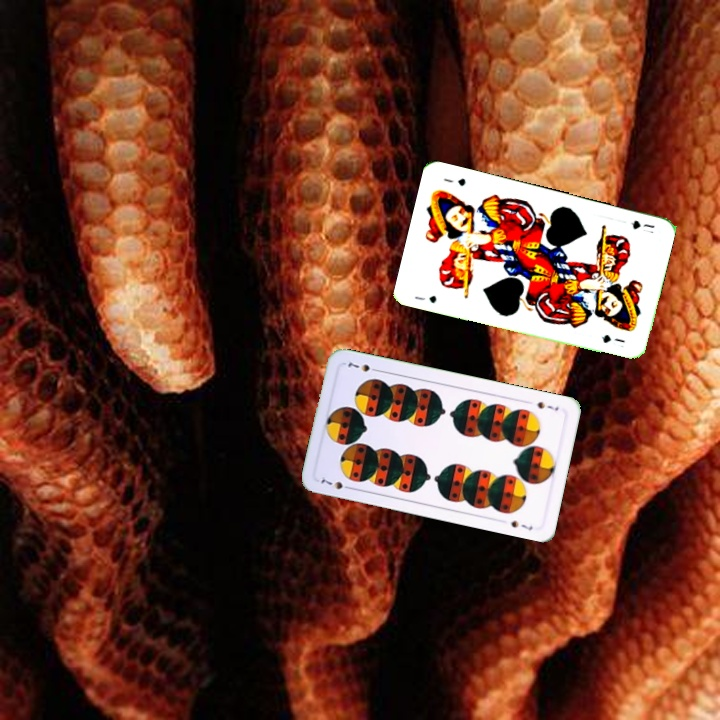GU: (627, 216, 657, 232), (410, 291, 439, 306)
S7: (317, 472, 355, 492), (533, 397, 561, 413)
